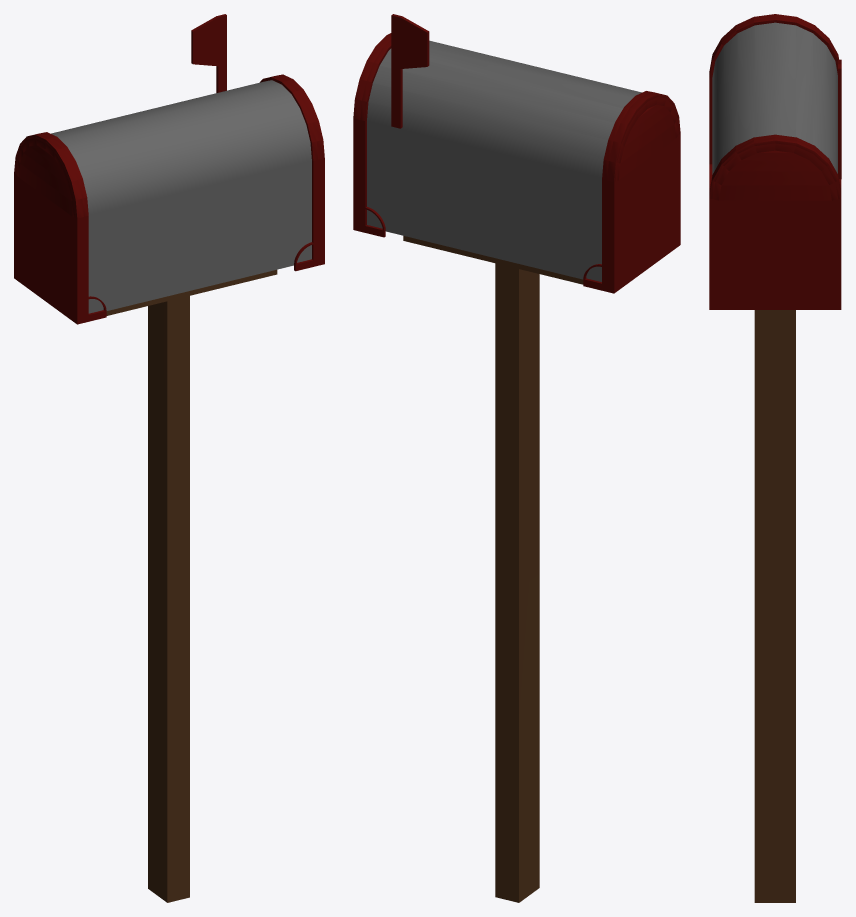
The model's file is mailbox.glb.
3 views of the same model, side by side, from view 1: azimuth 30°, elevation 25°; view 2: azimuth 150°, elevation 25°; view 3: azimuth 270°, elevation 25° (orthographic). The views are drawn at different scales.
Visible parts, largest first — view 1: MailBox_Body, Deckell_2, Deckel, flag; view 2: MailBox_Body, Deckell_2, Deckel, flag; view 3: MailBox_Body, Deckel, Deckell_2, flag.
Part boxes in pixels (x1,y1,x2,y2): MailBox_Body: [51, 80, 311, 902]; Deckell_2: [14, 132, 106, 324]; Deckel: [260, 74, 324, 271]; flag: [191, 14, 226, 92]; MailBox_Body: [367, 40, 641, 902]; Deckell_2: [583, 91, 680, 293]; Deckel: [353, 33, 391, 237]; flag: [391, 14, 429, 128]; MailBox_Body: [712, 22, 837, 902]; Deckel: [709, 134, 841, 309]; Deckell_2: [709, 14, 841, 191]; flag: [838, 59, 841, 179].
Bounding box in the file's own units: 0.7657 × 2.46 × 0.3388.
